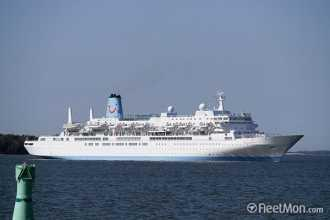youlun: (20, 92, 295, 163)
